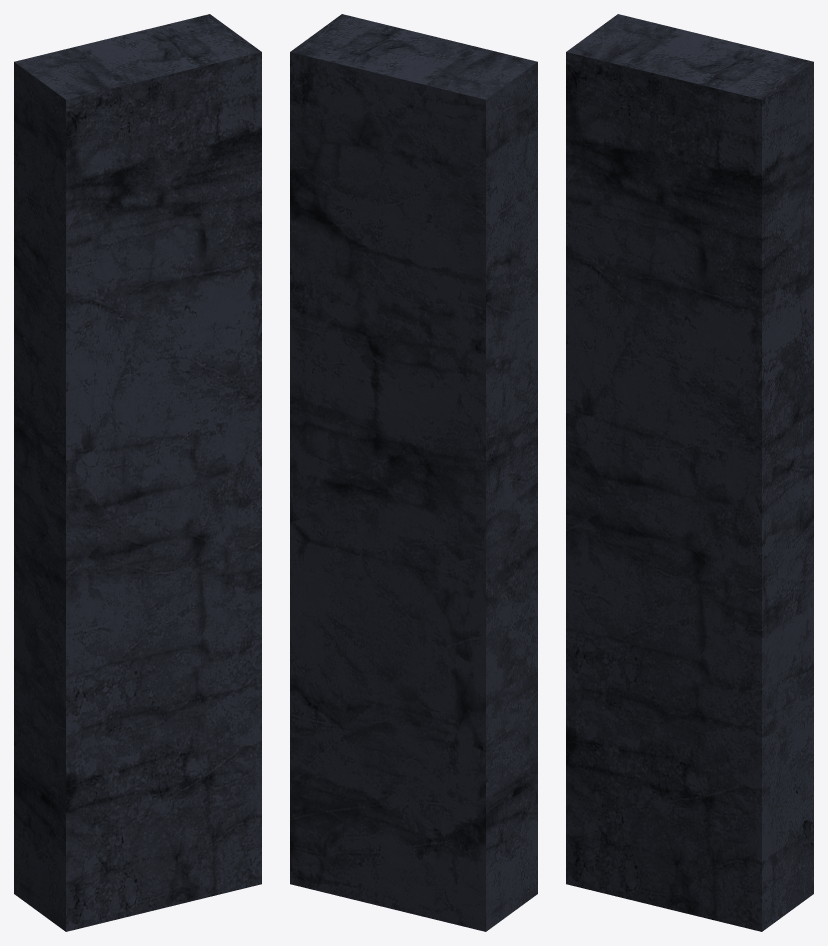
The model's file is Bridge30_Chão1.dae.
The picture shows the model from 3 angles, left to right: view 1: azimuth 30°, elevation 25°; view 2: azimuth 150°, elevation 25°; view 3: azimuth 330°, elevation 25°; orthographic projection.
Parts seen in each view (by area): view 1: Cube; view 2: Cube; view 3: Cube.
Boxes of the visible parts, x1=… form: Cube: x1=14, y1=14, x2=261, y2=931; Cube: x1=290, y1=14, x2=537, y2=931; Cube: x1=566, y1=14, x2=813, y2=931.
Bounding box in the file's own units: 2 × 8.14 × 0.9199.
1 material, 1 textured.
